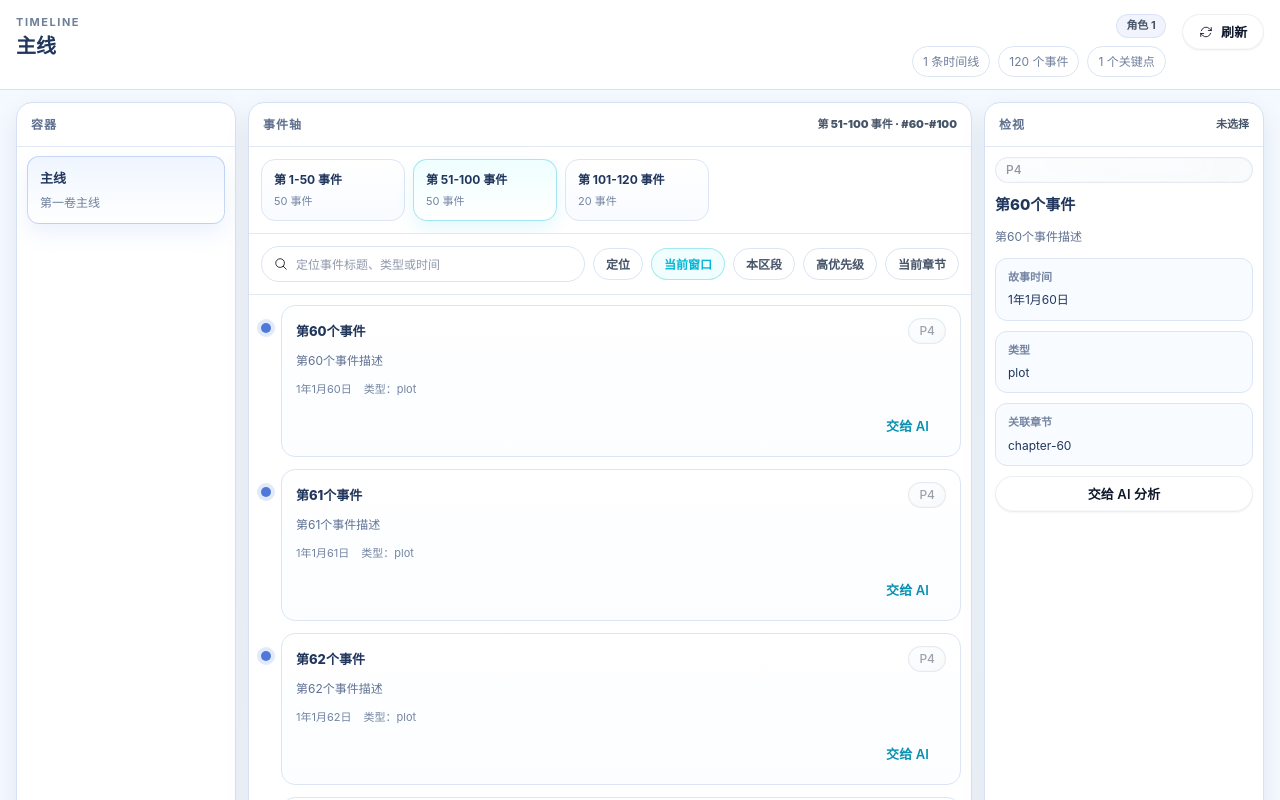
Scenario: TimelineOutlineView › 长篇事件轴应按 50 事件分段，并只显示当前章节附近窗口
Expected: the text "第101个事件" is not shown
Click the button with class "timeline-events__segment" showing "第 101-120 事件 20 事件" at (637, 190), box [565,159,709,221]
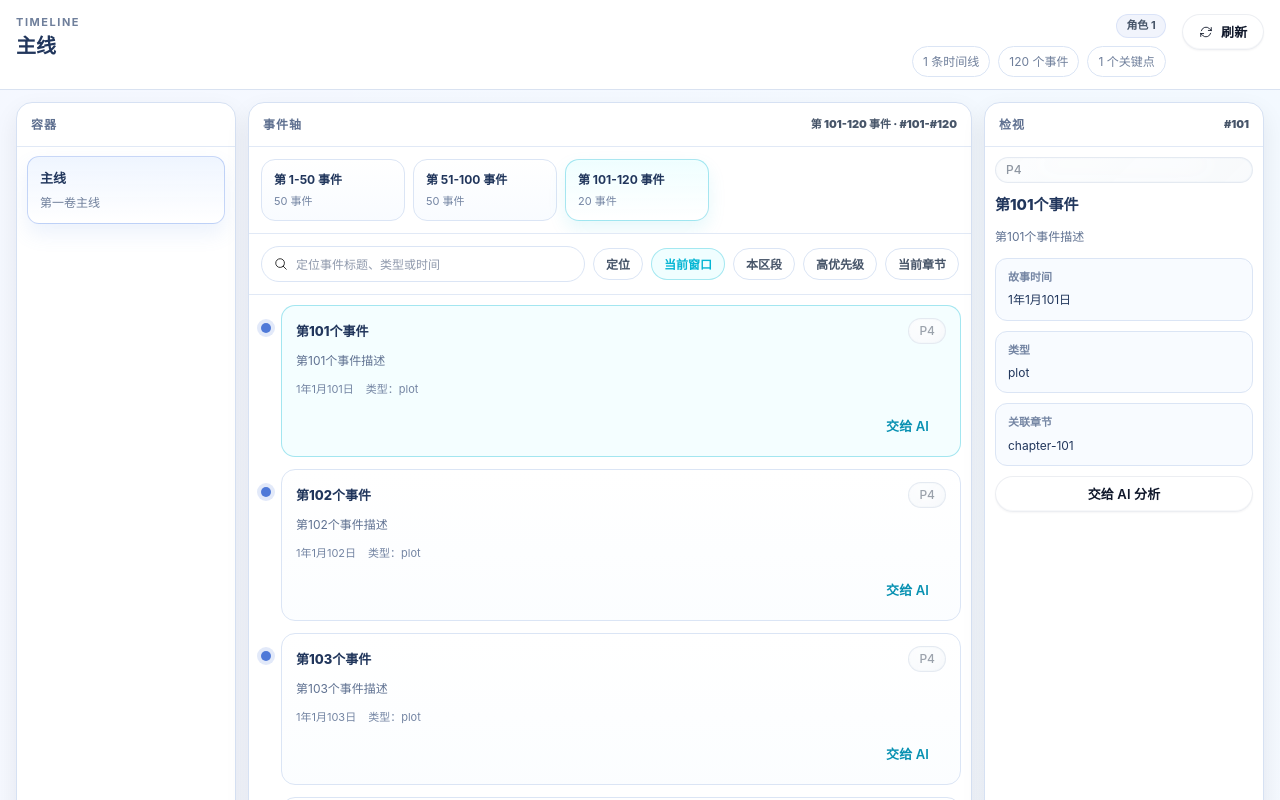
Expected: the text "#101-#120" is shown, [811,117,957,131]
Expected: the text "第101个事件" is shown, [296,321,368,342]
